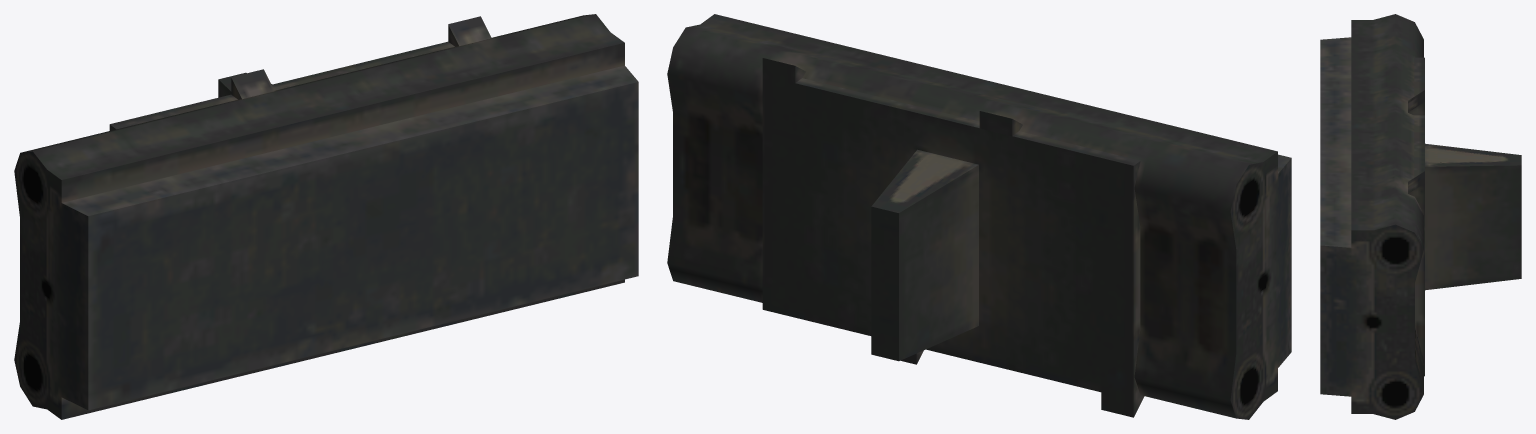
The picture shows the model from 3 angles, left to right: view 1: azimuth 30°, elevation 25°; view 2: azimuth 150°, elevation 25°; view 3: azimuth 270°, elevation 25°; orthographic projection. The views are drawn at different scales.
Parts seen in each view (by area): view 1: set_0_group_0; view 2: set_0_group_0; view 3: set_0_group_0.
Boxes of the visible parts, x1,y1,x2,y2 form: set_0_group_0: [14, 14, 638, 419]; set_0_group_0: [667, 14, 1291, 419]; set_0_group_0: [1320, 14, 1521, 419].
Bounding box in the file's own units: 0.44 × 0.201 × 0.1777.
1 material, 1 textured.
